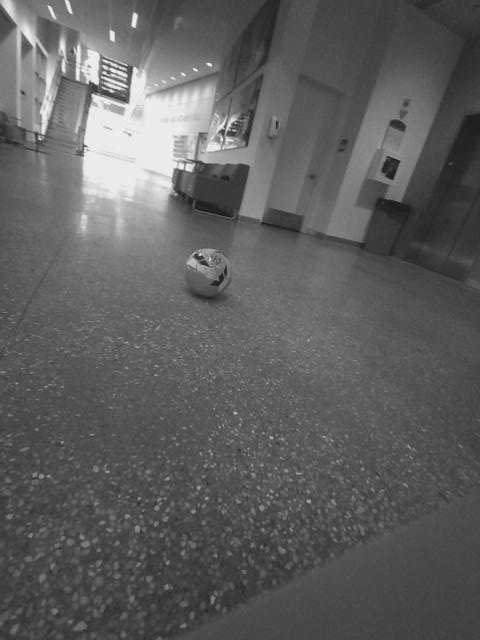ball: (179, 243, 239, 301)
